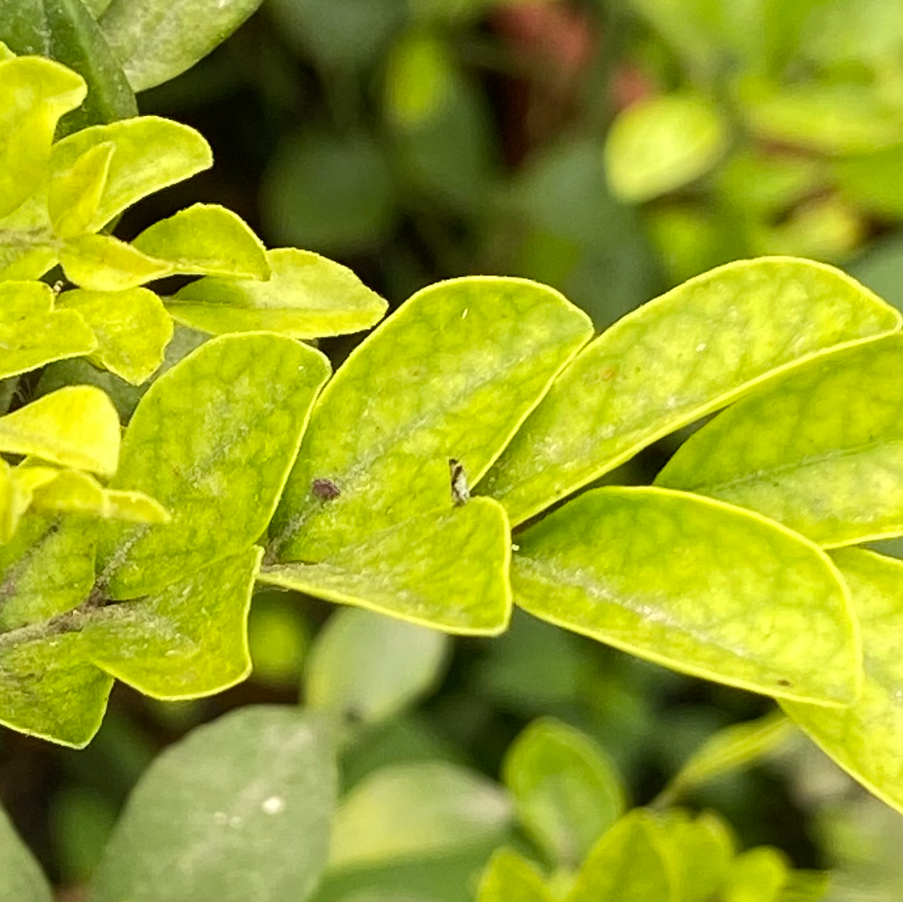cd: (446, 456, 472, 505), (310, 477, 341, 501)
